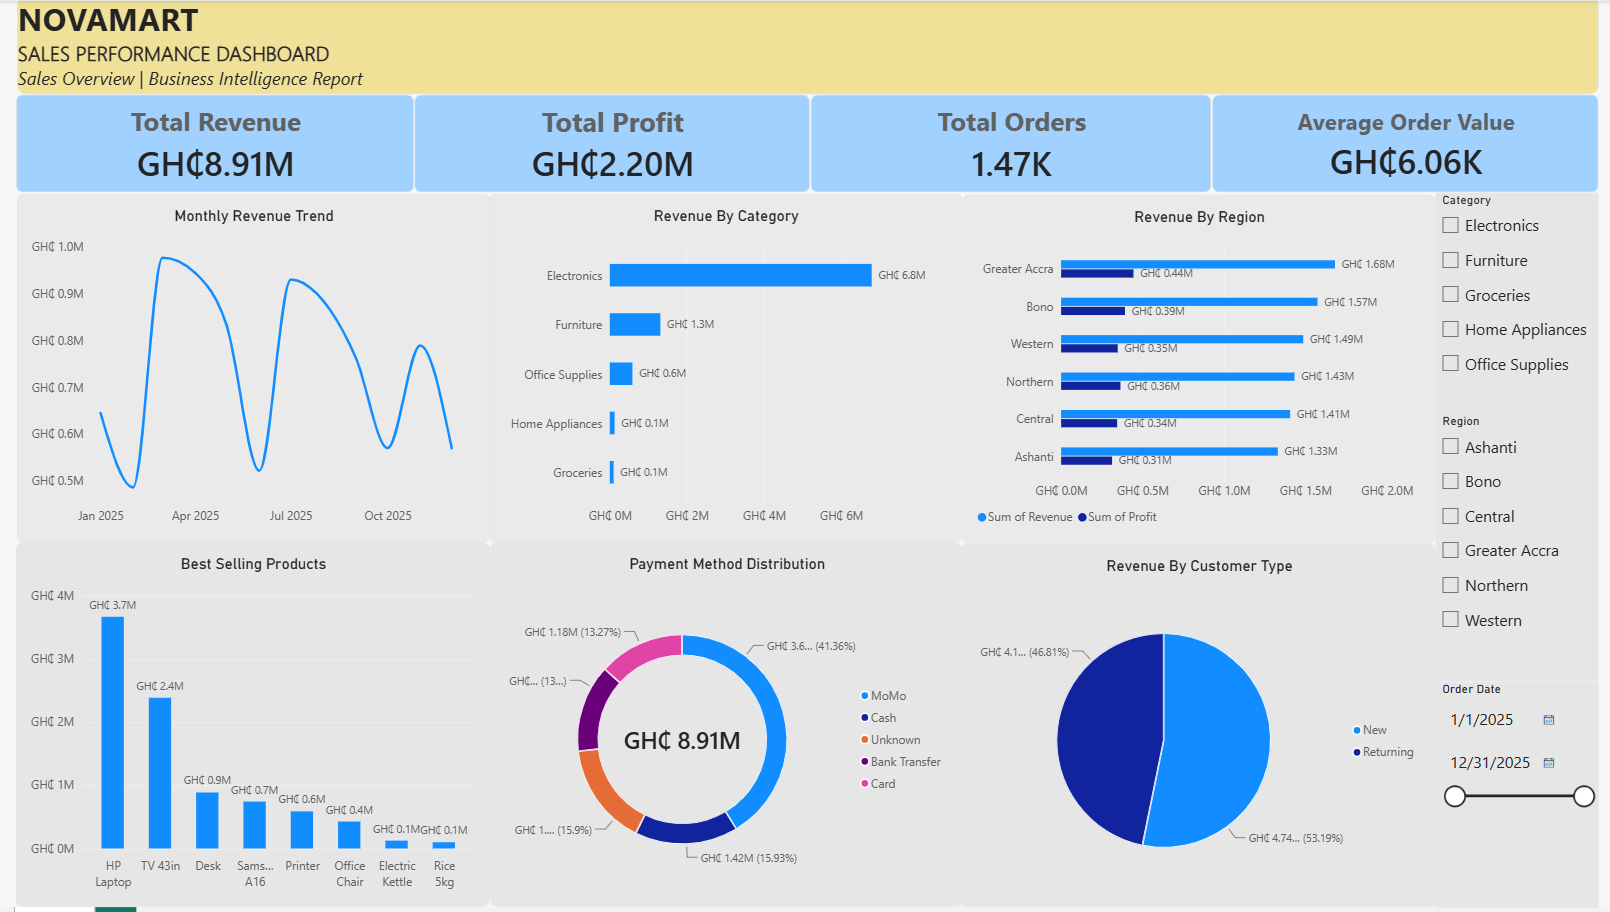

The dashboard page shown, as its layout file describes it:
{"tool":"powerbi","page":{"name":"Page 1","canvas":[1920,1080],"ordinal":0},"visuals":[{"type":"cardVisual","fields":{"Data":["Clean_sales.Total Revenue"]},"box":[19,116.7,472.7,116.7],"z":0},{"type":"cardVisual","fields":{"Data":["Clean_sales.Total Profit"]},"box":[491.7,116.7,469.8,116.7],"z":1000},{"type":"cardVisual","fields":{"Data":["Clean_sales.Total Orders"]},"box":[961.5,116.7,475.6,116.7],"z":2000},{"type":"cardVisual","fields":{"Data":["Clean_sales.Average Order Value"]},"box":[1437.4,116.4,458,116.4],"z":3000},{"type":"lineChart","title":"Monthly Revenue Trend","fields":{"Category":["Clean_sales.Order Date.Variation.Date Hierarchy.Year","Clean_sales.Order Date.Variation.Date Hierarchy.Month"],"Y":["Sum(Clean_sales.Revenue)"]},"box":[19.5,233.8,560.6,413.7],"z":4000},{"type":"barChart","title":"Revenue By Category ","fields":{"Category":["Clean_sales.Category"],"Y":["Sum(Clean_sales.Revenue)"]},"box":[580,233.8,560.6,413.7],"z":5000},{"type":"clusteredBarChart","title":"Revenue By Region","fields":{"Category":["Clean_sales.Region"],"Y":["Sum(Clean_sales.Revenue)","Sum(Clean_sales.Profit)"]},"box":[1141.1,235.5,560.6,413.7],"z":6000},{"type":"slicer","fields":{"Values":["novamart sales.Region"]},"box":[1702.6,495.5,192.8,317],"z":7000},{"type":"slicer","fields":{"Values":["novamart sales.Category"]},"box":[1702.6,232.9,192.8,262.6],"z":8000},{"type":"textbox","box":[19.4,0,1876,116.4],"z":9000},{"type":"slicer","fields":{"Values":["novamart sales.Order Date"]},"box":[1702.6,812.5,192.8,267.8],"z":10000},{"type":"columnChart","title":"Best Selling Products","fields":{"Category":["Clean_sales.Product Name"],"Y":["Sum(Clean_sales.Revenue)"]},"box":[19,647.8,561.7,431.9],"z":11000},{"type":"donutChart","title":"Payment Method Distribution","fields":{"Category":["Clean_sales.Payment Method"],"Y":["Sum(Clean_sales.Revenue)"]},"box":[580.7,647.8,560.2,431.9],"z":12000},{"type":"pieChart","title":" Revenue By Customer Type","fields":{"Category":["Clean_sales.Customer Type"],"Y":["Sum(Clean_sales.Revenue)"]},"box":[1139.8,648.2,562.8,432.1],"z":13000}]}

Visuals, with their boxes in screenshot pixels (x1, y1, x2, y2), scaled from the page's 1920x1080 canvas onto the 1610x912 screenshot:
cardVisual - Clean_sales.Total Revenue: crop(16, 99, 412, 197)
cardVisual - Clean_sales.Total Profit: crop(412, 99, 806, 197)
cardVisual - Clean_sales.Total Orders: crop(806, 99, 1205, 197)
cardVisual - Clean_sales.Average Order Value: crop(1205, 98, 1589, 197)
"Monthly Revenue Trend" lineChart: crop(16, 197, 486, 547)
"Revenue By Category " barChart: crop(486, 197, 956, 547)
"Revenue By Region" clusteredBarChart: crop(957, 199, 1427, 548)
slicer - novamart sales.Region: crop(1428, 418, 1589, 686)
slicer - novamart sales.Category: crop(1428, 197, 1589, 418)
textbox: crop(16, 0, 1589, 98)
slicer - novamart sales.Order Date: crop(1428, 686, 1589, 911)
"Best Selling Products" columnChart: crop(16, 547, 487, 911)
"Payment Method Distribution" donutChart: crop(487, 547, 957, 911)
" Revenue By Customer Type" pieChart: crop(956, 547, 1428, 911)
